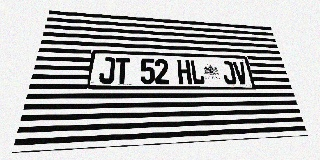2: (155, 59, 169, 84)
5: (141, 58, 155, 84)
H: (177, 60, 192, 84)
J: (98, 57, 115, 84), (221, 61, 237, 84)
L: (190, 60, 205, 84)
T: (114, 58, 130, 84)
V: (232, 61, 249, 84)
